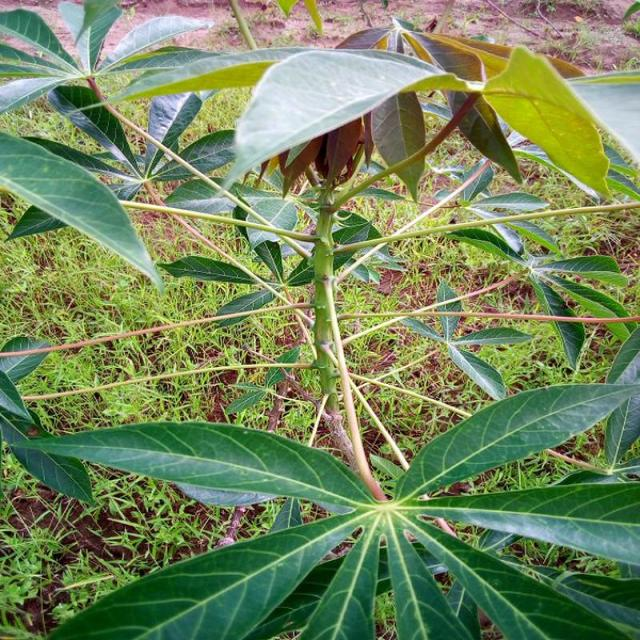cassava leaf: (0, 3, 638, 637), (218, 46, 460, 194), (394, 380, 638, 502), (0, 128, 165, 294), (481, 44, 612, 200)
